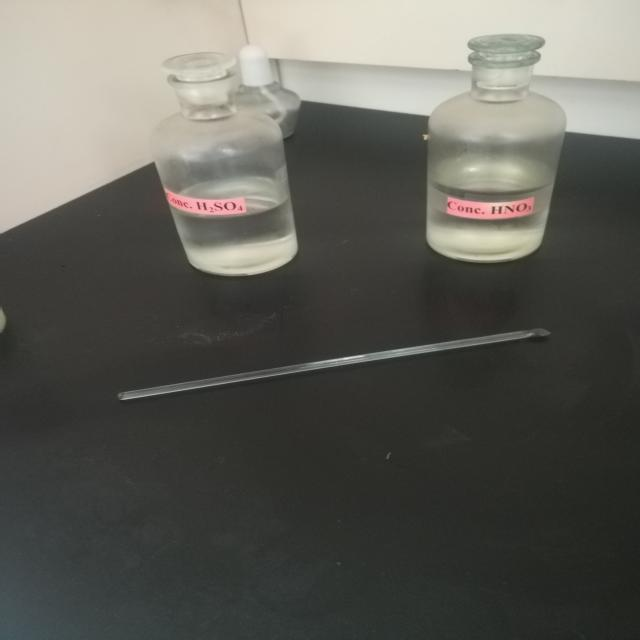Glass_Rod: (91, 315, 617, 418)
